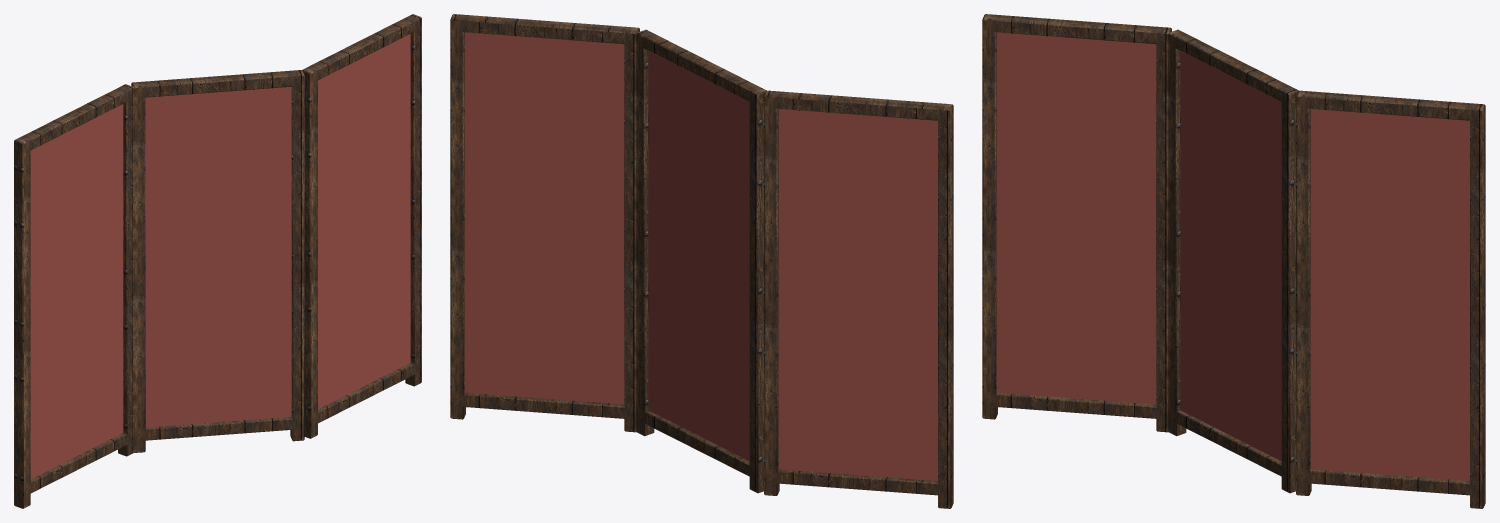
The model's file is folding-screen-v01.glb.
3 renders of one model, left to right at view 1: azimuth 30°, elevation 25°; view 2: azimuth 150°, elevation 25°; view 3: azimuth 330°, elevation 25°, orthographic. The views are drawn at different scales.
Visible parts, largest first — view 1: folding-screen; view 2: folding-screen; view 3: folding-screen.
Part boxes in pixels (box(x1,y1,x2,y2)): folding-screen: box(14, 14, 421, 508); folding-screen: box(450, 14, 953, 508); folding-screen: box(982, 14, 1485, 508).
Size of the model in its own units: 2.35 by 1.9 by 0.3341.
2 materials, 1 textured.
